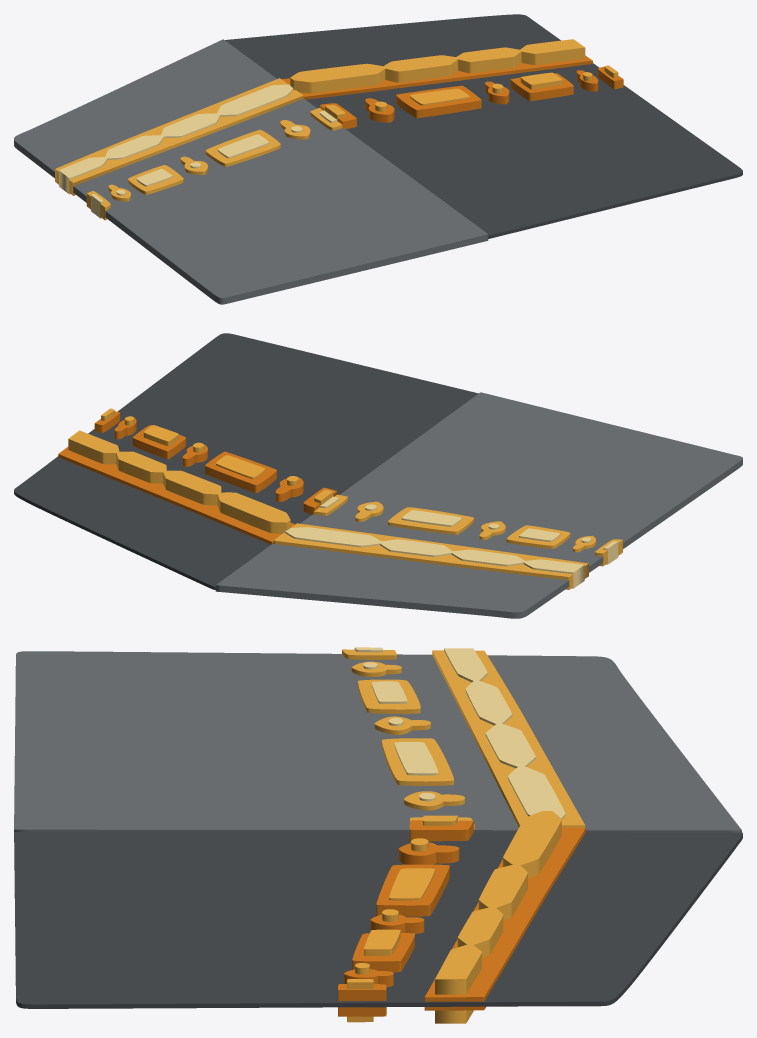
The model's file is emoji_u1f54b.glb.
3 views of the same model, one above another, from view 1: azimuth 30°, elevation 25°; view 2: azimuth 150°, elevation 25°; view 3: azimuth 270°, elevation 25° (orthographic). The views are drawn at different scales.
Visible parts, largest first — view 1: emoji_u1f54b; view 2: emoji_u1f54b; view 3: emoji_u1f54b.
Part boxes in pixels (box(x1,y1,x2,y2)): emoji_u1f54b: box(14, 14, 742, 304); emoji_u1f54b: box(14, 333, 742, 618); emoji_u1f54b: box(14, 647, 742, 1023).
Size of the model in its own units: 0.0339 by 0.002 by 0.0298.
